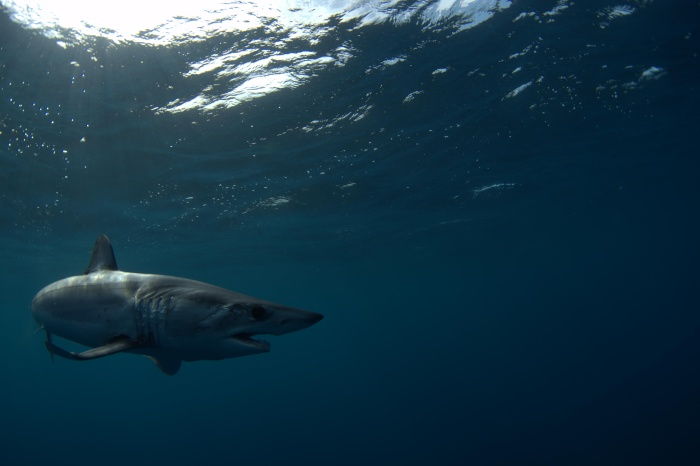Mako: (18, 222, 326, 385)
